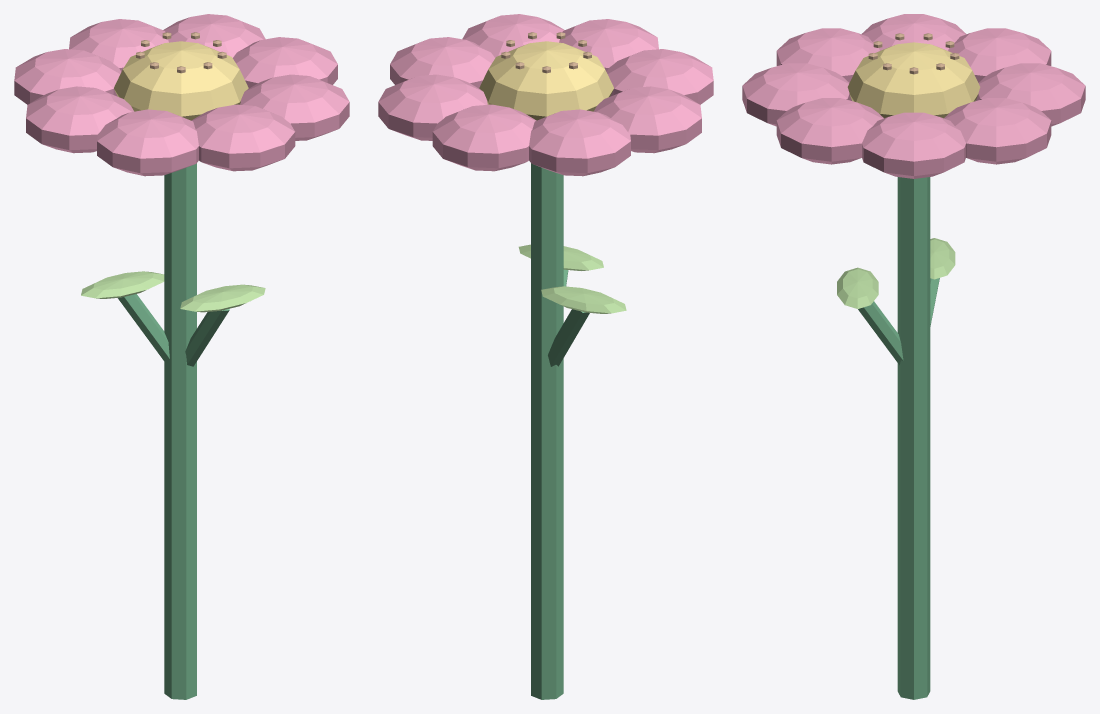
The model's file is flor_fondo_rosa.glb.
The picture shows the model from 3 angles, left to right: view 1: azimuth 30°, elevation 25°; view 2: azimuth 150°, elevation 25°; view 3: azimuth 270°, elevation 25°; orthographic projection.
Visible parts, largest first — view 1: flor_fondo_rosa; view 2: flor_fondo_rosa; view 3: flor_fondo_rosa.
Part boxes in pixels (box(x1,y1,x2,y2)): flor_fondo_rosa: box(14, 14, 349, 699); flor_fondo_rosa: box(378, 14, 713, 699); flor_fondo_rosa: box(742, 14, 1085, 699).
Size of the model in its own units: 2.64 by 5.47 by 2.65.
